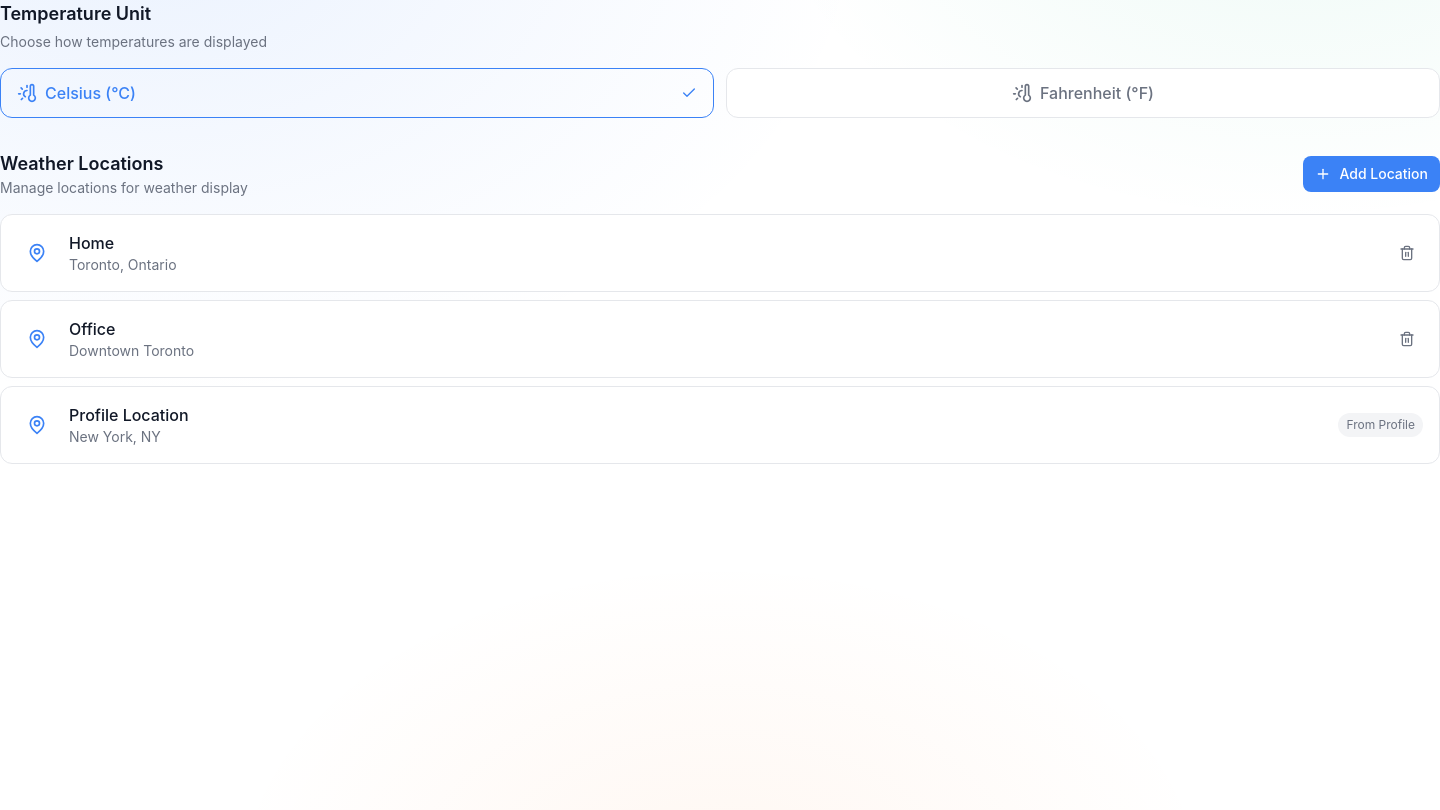
WeatherSettings › Add Location Modal › opens modal when clicking add location button
The image size is (1440, 810).
Click the button "Add Location" at (1372, 174), box 1303,156 -> 1439,192
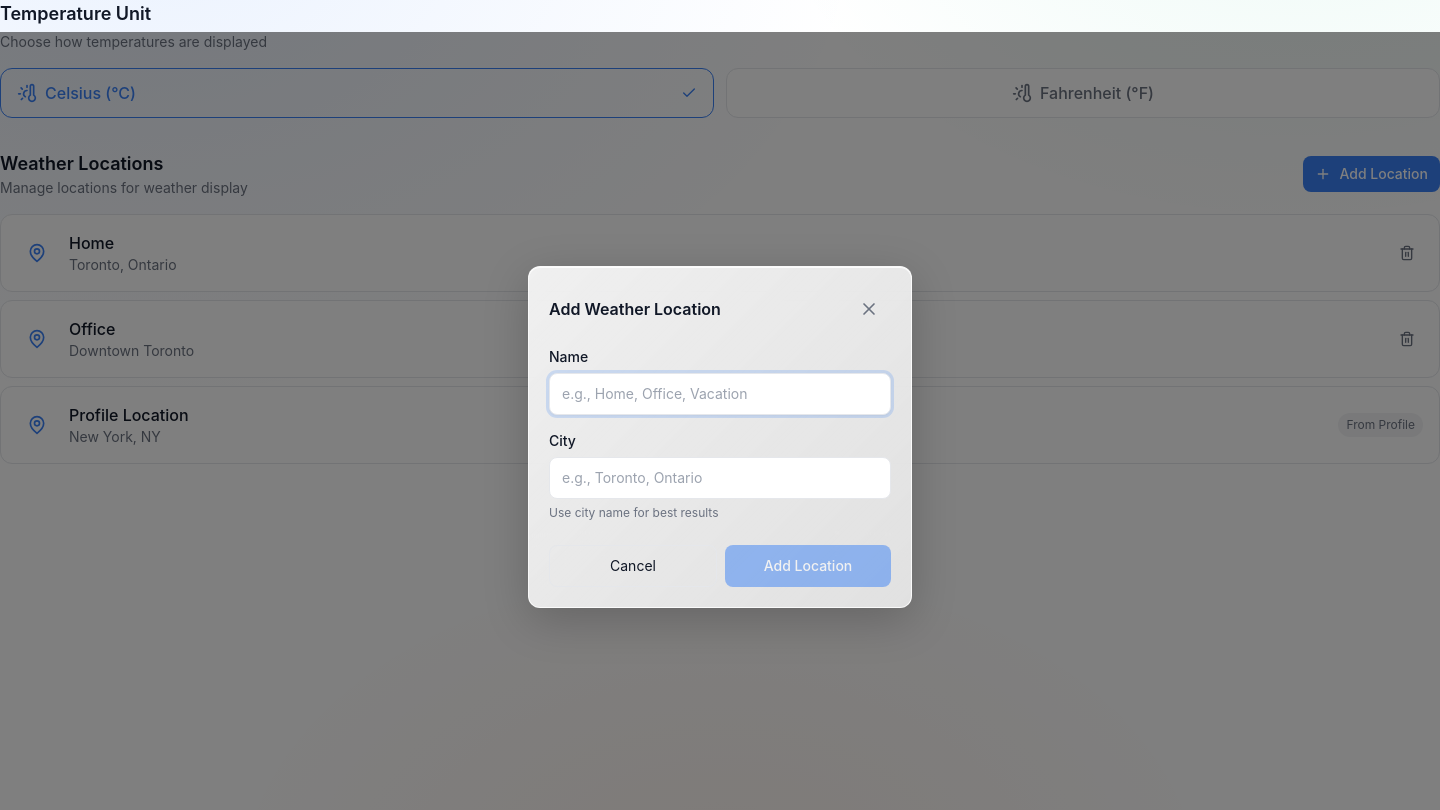
expect the heading "Add Weather Location" is shown: met, box 549,297 -> 721,321
